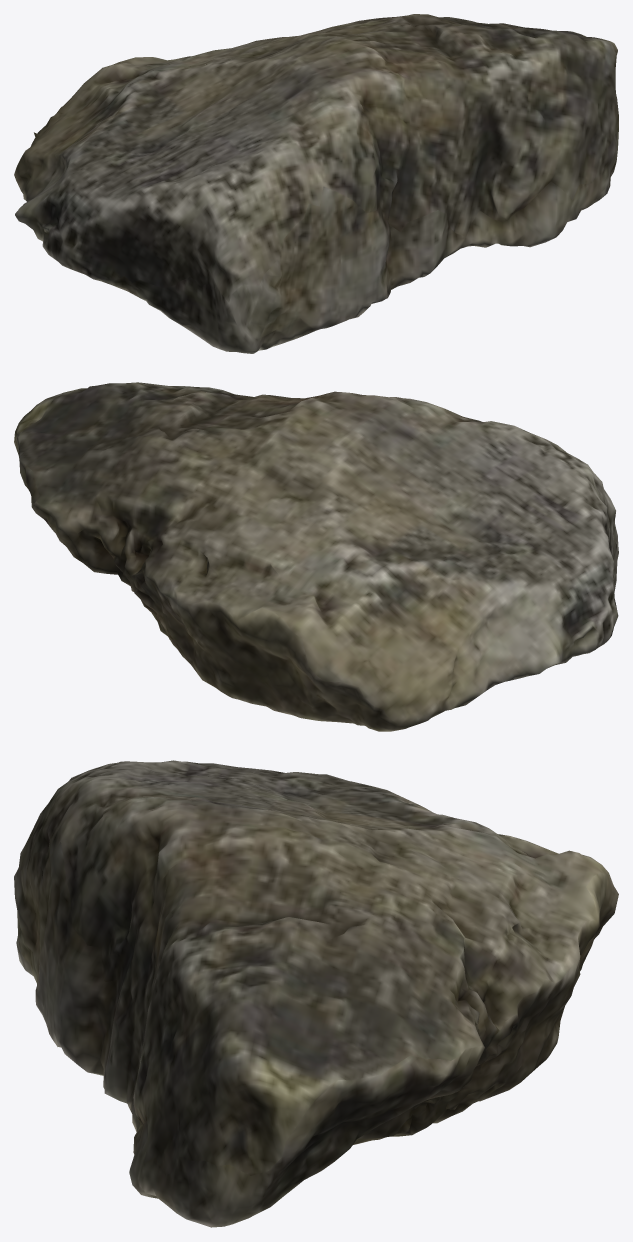
The picture shows the model from 3 angles, top to bottom: view 1: azimuth 30°, elevation 25°; view 2: azimuth 150°, elevation 25°; view 3: azimuth 270°, elevation 25°; orthographic projection. The views are drawn at different scales.
Visible parts, largest first — view 1: rock_moss_set_02__d_lod0; view 2: rock_moss_set_02__d_lod0; view 3: rock_moss_set_02__d_lod0.
Boxes of the visible parts, <box> form: rock_moss_set_02__d_lod0: <box>14,14,618,353</box>; rock_moss_set_02__d_lod0: <box>14,382,618,731</box>; rock_moss_set_02__d_lod0: <box>14,760,618,1227</box>.
Size of the model in its own units: 2.2 by 0.7685 by 1.55.
Materials: 1 (1 with a texture image).
